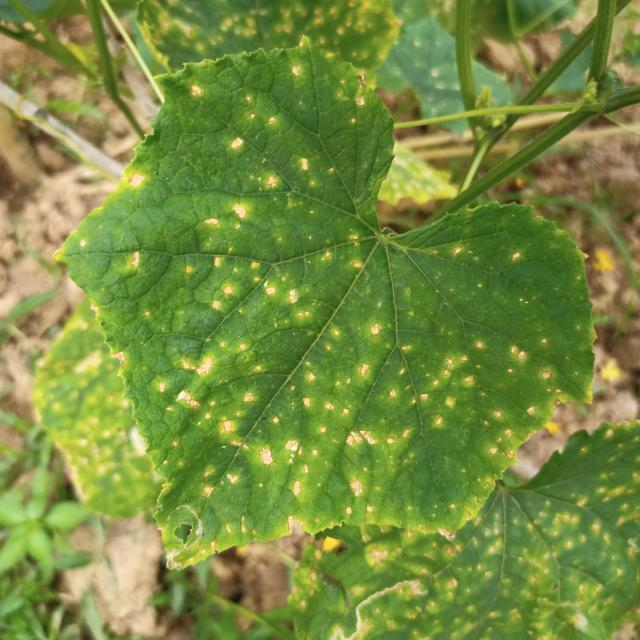disease_cucumber: (88, 248, 593, 554), (178, 60, 378, 253), (122, 164, 157, 200)
